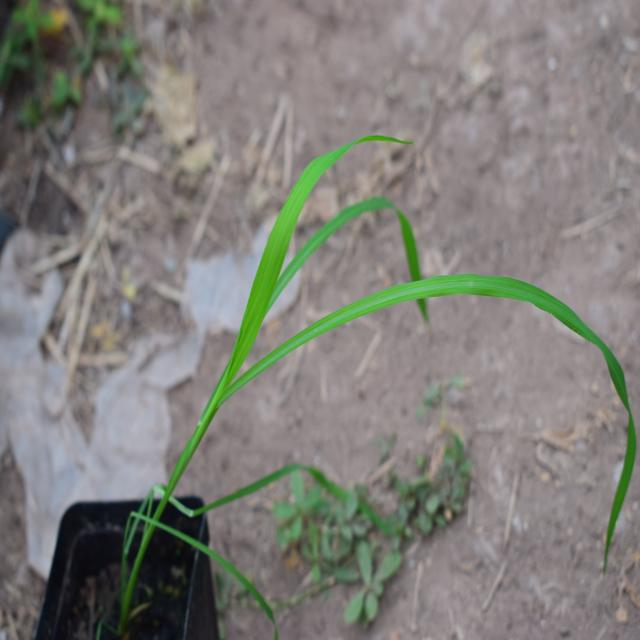barnyard_grass: (181, 118, 636, 499)
